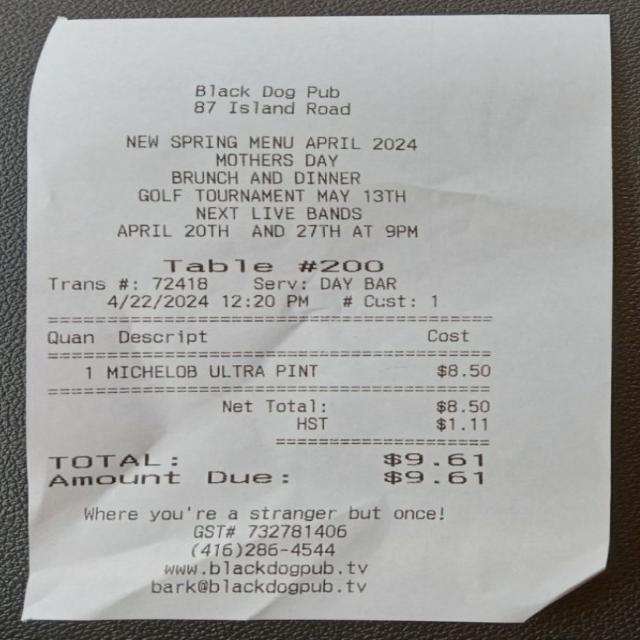item: (99, 354, 501, 388)
store_name: (186, 78, 356, 105)
total_amount: (40, 447, 498, 472)
transaction_date: (99, 291, 217, 317)
